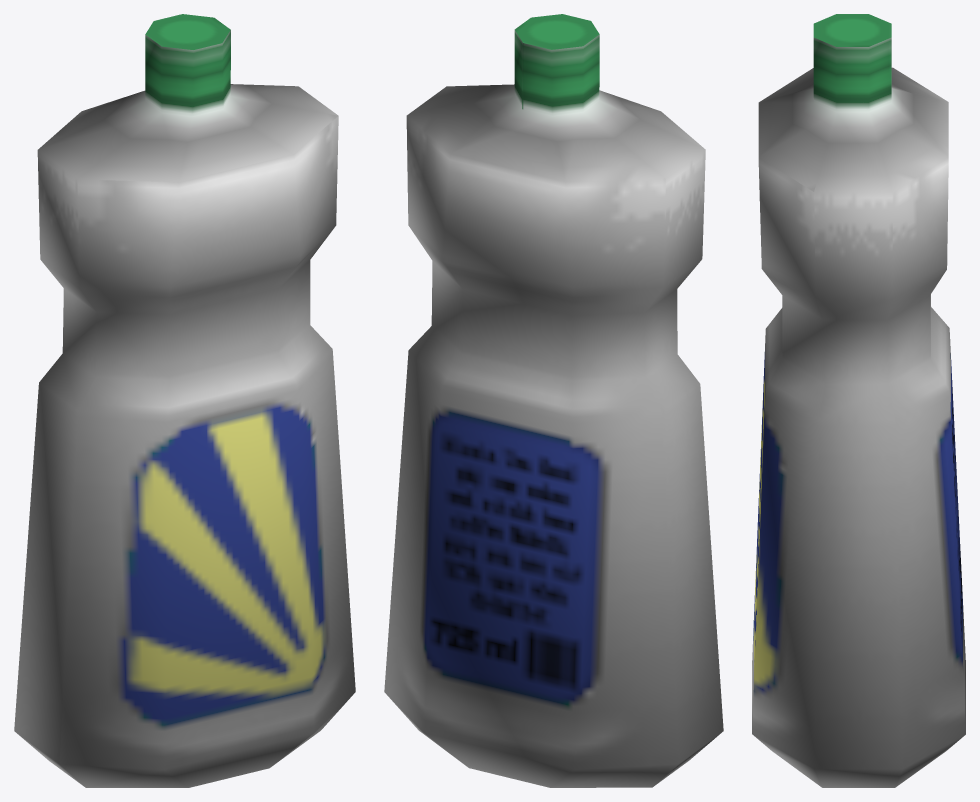
The model's file is CleaningLiquidEmpty.fbx.
3 views of the same model, side by side, from view 1: azimuth 30°, elevation 25°; view 2: azimuth 150°, elevation 25°; view 3: azimuth 270°, elevation 25° (orthographic). The views are drawn at different scales.
Visible parts, largest first — view 1: CleaningLiquid001; view 2: CleaningLiquid001; view 3: CleaningLiquid001.
Boxes of the visible parts, box(x1,y1,x2,y2) form: CleaningLiquid001: box(14, 14, 355, 787); CleaningLiquid001: box(384, 14, 723, 787); CleaningLiquid001: box(752, 14, 965, 787).
Size of the model in its own units: 20.06 by 46.28 by 12.79.
